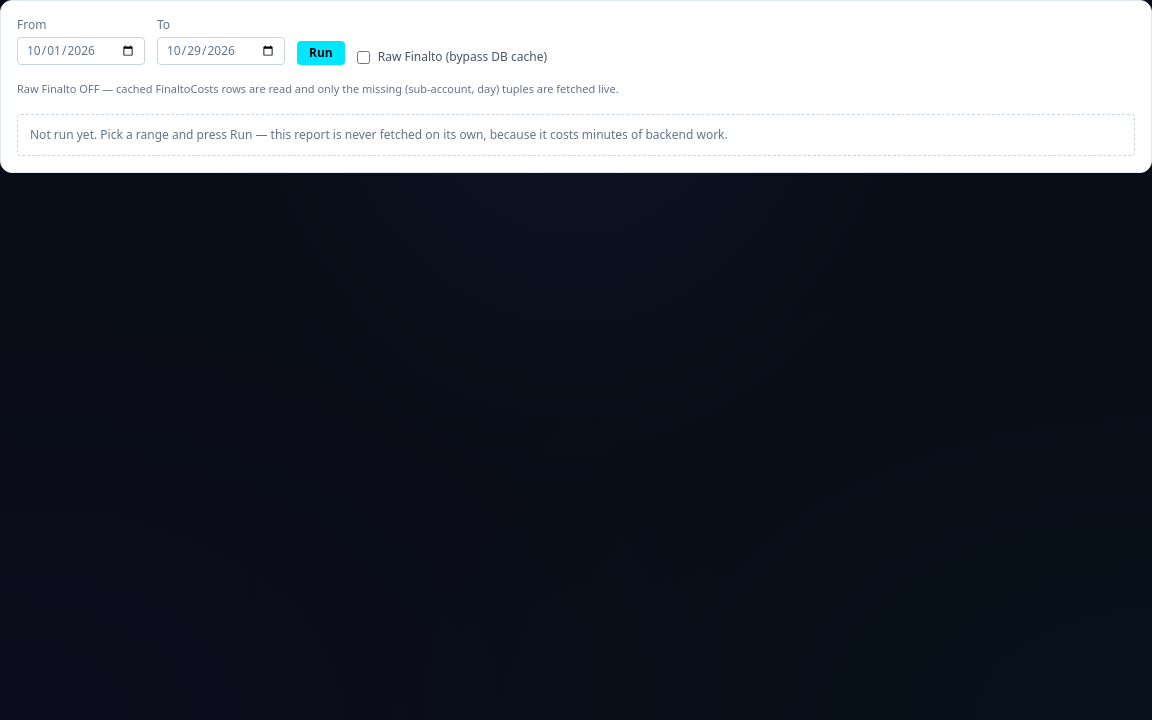
a timeout is its own state, naming the range › renders the slow-report state for a 504 proxy_timeout, not a generic error
Click the button "Run" at (321, 53), box top-left (297, 41), bottom-right (345, 65)
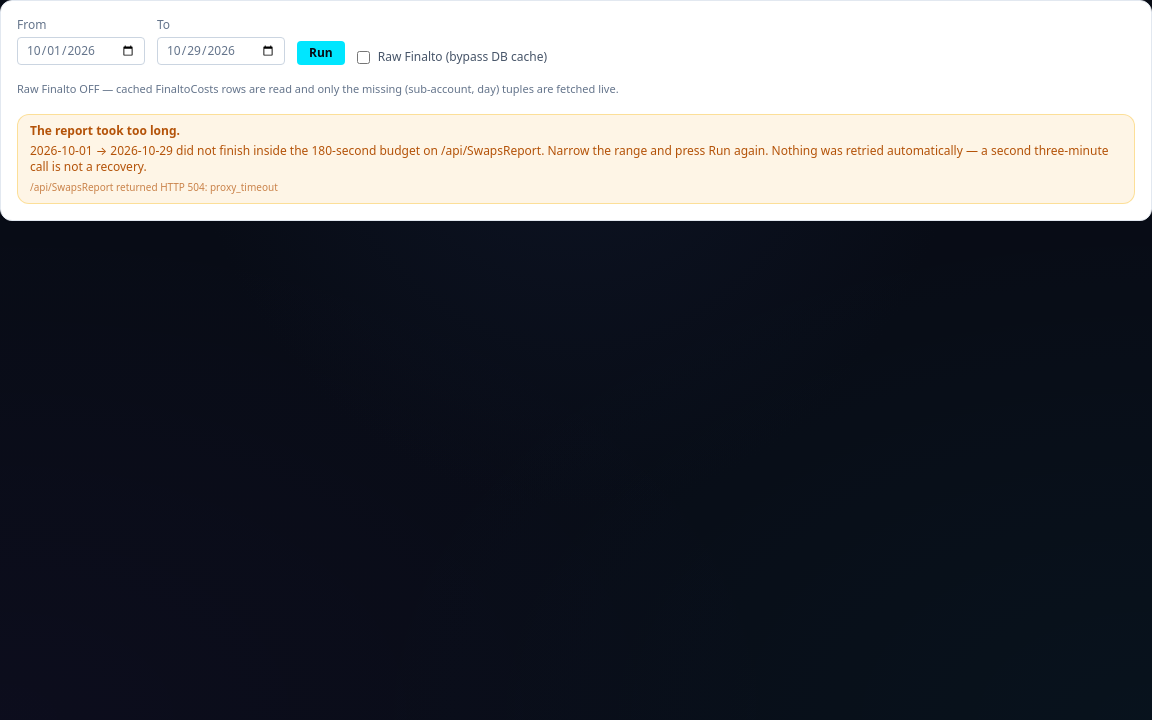
Check: the text "The report took too long." is shown, box top-left (30, 122), bottom-right (180, 139)
Check: the text "180-second budget" is shown, box top-left (173, 142), bottom-right (647, 159)
